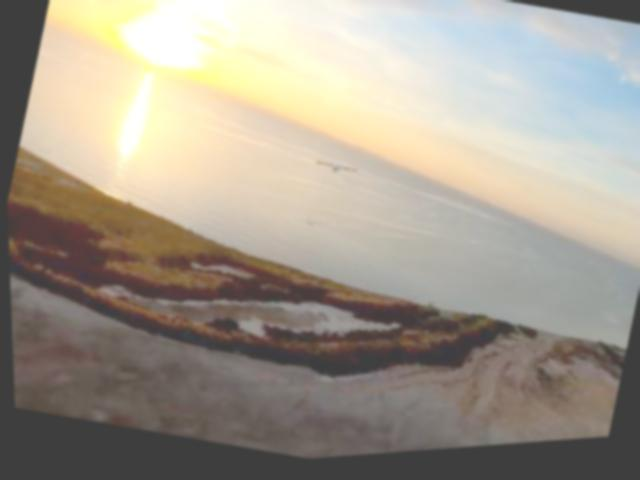uav: (306, 155, 358, 188)
